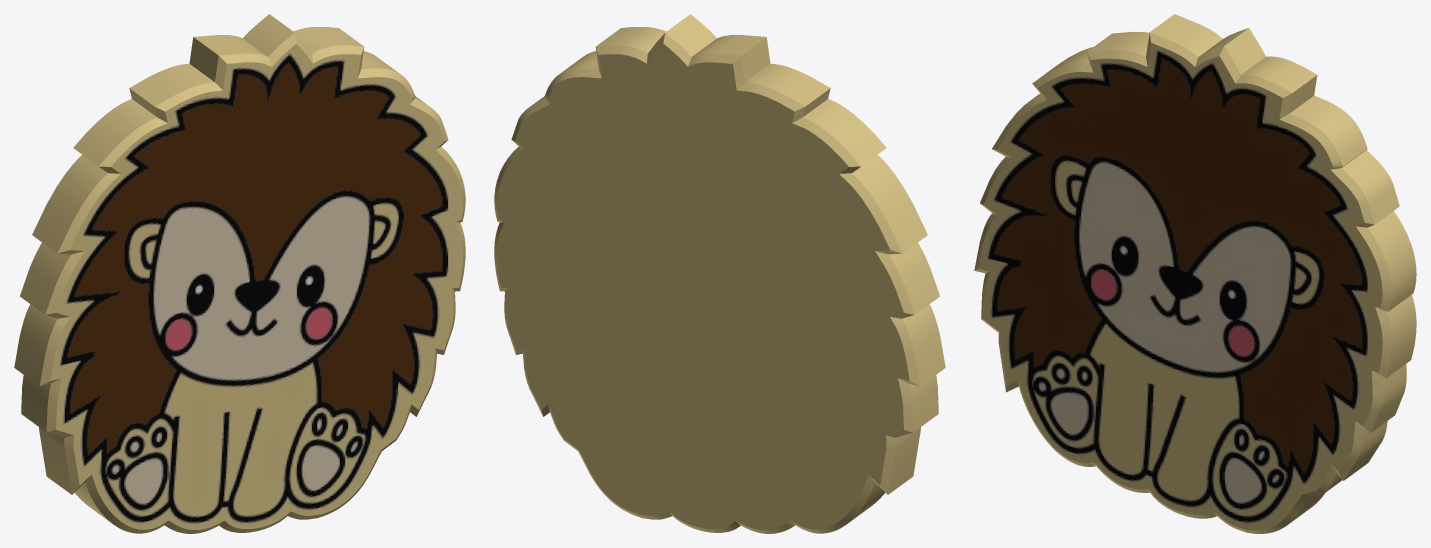
3 renders of one model, left to right at view 1: azimuth 30°, elevation 25°; view 2: azimuth 150°, elevation 25°; view 3: azimuth 330°, elevation 25°, orthographic. The views are drawn at different scales.
Parts seen in each view (by area): view 1: Path-Mat, Path-bg; view 2: Path-bg; view 3: Path-Mat, Path-bg.
Boxes of the visible parts, box(x1,y1,x2,y2) form: Path-Mat: box(50, 43, 463, 529); Path-bg: box(14, 14, 465, 533); Path-bg: box(494, 14, 945, 533); Path-Mat: box(978, 43, 1382, 530); Path-bg: box(974, 14, 1416, 533).
Bounding box in the file's own units: 725 × 799 × 95.
2 materials, 2 textured.
